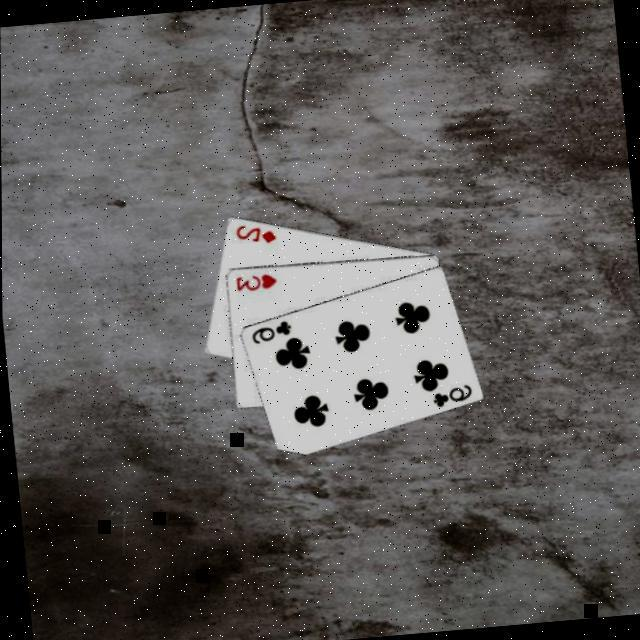2D: (232, 220, 280, 250)
3H: (232, 270, 280, 296)
6C: (247, 318, 295, 348), (428, 382, 476, 412)
